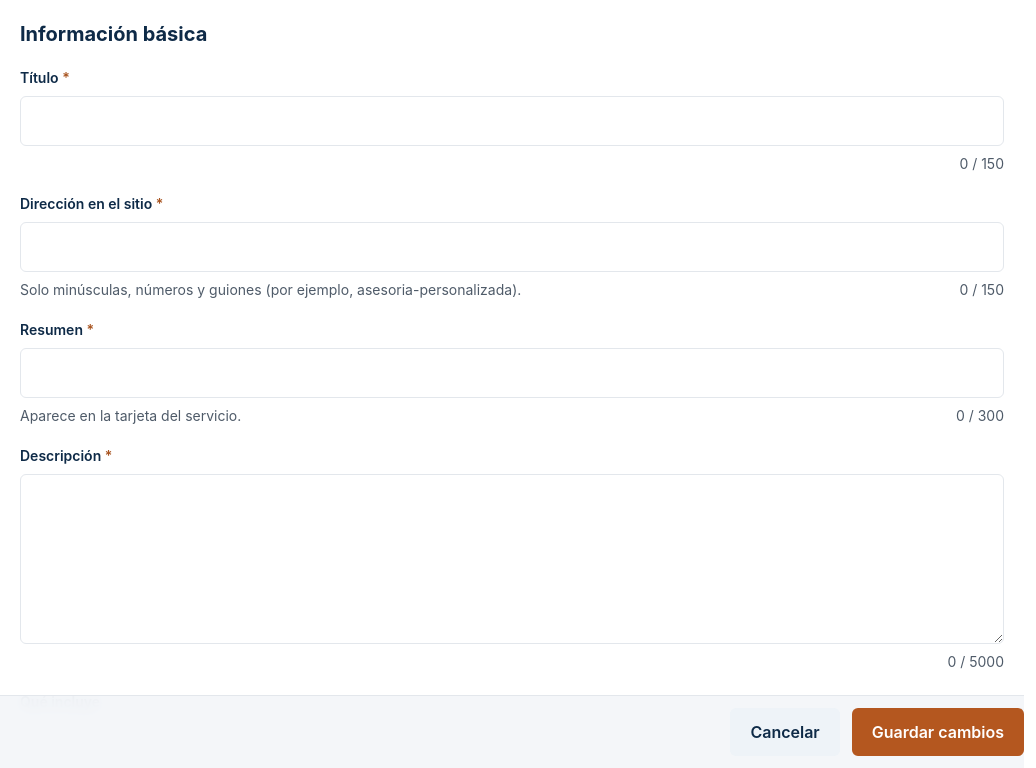
sin título muestra el mensaje bajo el campo y no llama a la API
Step 1. Click the button "Guardar cambios" → (938, 732), box [852, 708, 1024, 756]
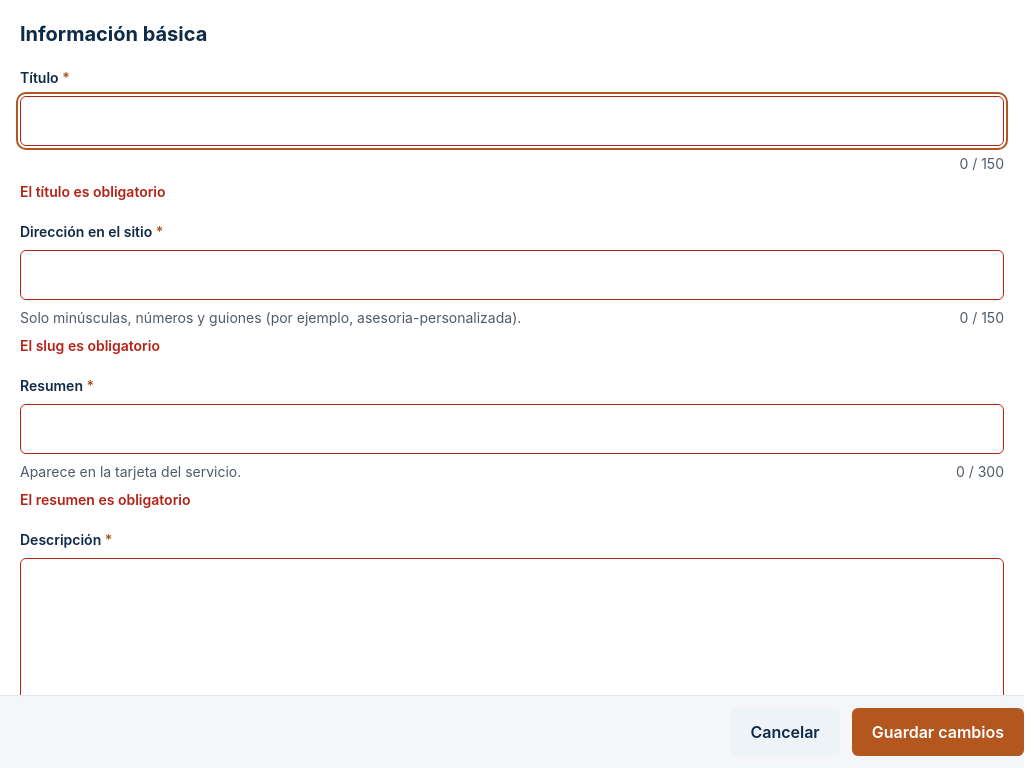
Expected: the text "El título es obligatorio" is shown, [20, 183, 166, 200]
